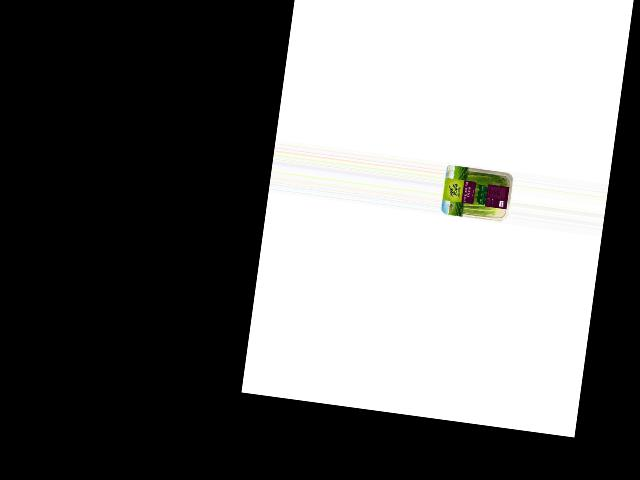lettuce: (445, 165, 514, 223)
